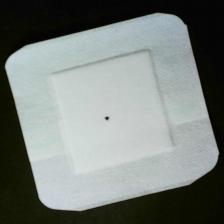Dressing: (6, 13, 221, 214)
F_Body: (93, 103, 122, 133)
